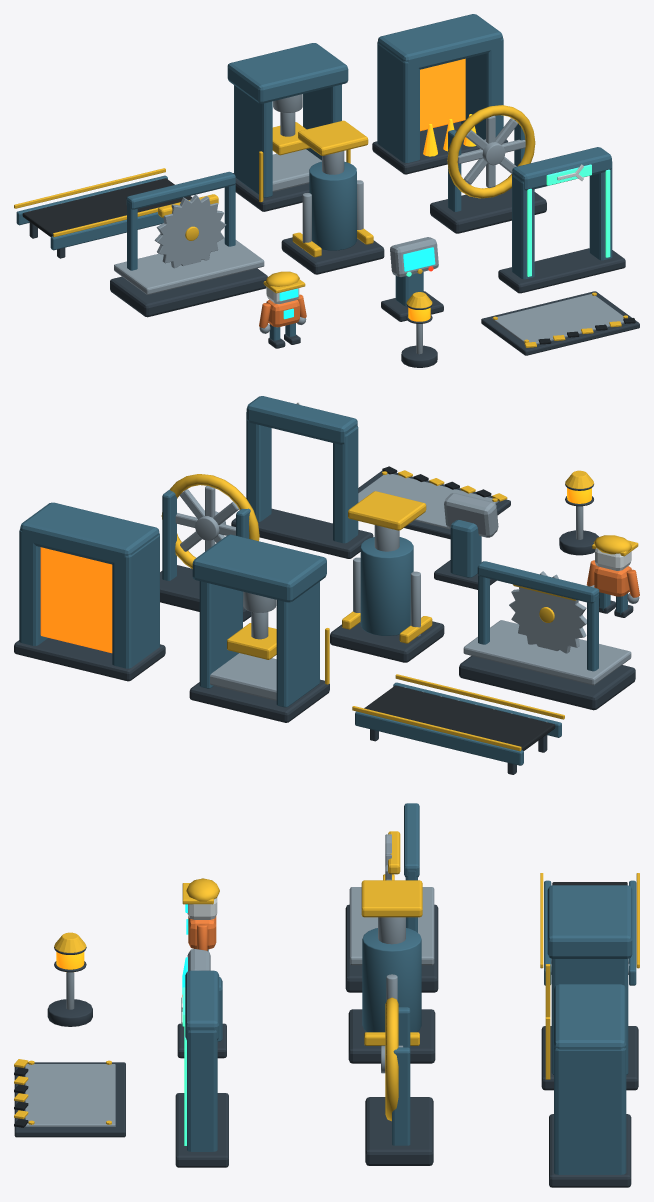
File: conveyor_factory_kit.glb
3 views of the same model, one above another, from view 1: azimuth 30°, elevation 25°; view 2: azimuth 150°, elevation 25°; view 3: azimuth 270°, elevation 25° (orthographic). The views are drawn at different scales.
Visible parts, largest first — view 1: Press_Crown, Furnace_Jamb_Left, Furnace_Header, Saw_Table, Piston_Main_Barrel, Floor_Plate_Inset, Saw_Base, Saw_Blade, Press_Pillar_L, Conveyor_Belt, Furnace_Heat_Core, Exit_Base (+28 smaller); view 2: Furnace_Heat_Core, Press_Crown, Furnace_Jamb_Left, Furnace_Header, Conveyor_Belt, Piston_Main_Barrel, Saw_Table, Press_Pillar_L, Saw_Base, Saw_Blade, Press_Pillar_R, Exit_Header (+32 smaller); view 3: Furnace_Jamb_Right, Press_Crown, Floor_Plate_Inset, Piston_Main_Barrel, Furnace_Header, Exit_Pillar_Right, Turbine_Base, Press_Pillar_R, Saw_Table, Piston_Strike_Plate, Floor_Plate_Base, Piston_Base (+13 smaller).
Boxes of the visible parts, bbox=[...] form: Press_Crown: bbox=[227, 43, 348, 103]; Furnace_Jamb_Left: bbox=[377, 41, 419, 162]; Furnace_Header: bbox=[378, 14, 502, 69]; Saw_Table: bbox=[114, 237, 264, 294]; Piston_Main_Barrel: bbox=[309, 161, 356, 250]; Floor_Plate_Inset: bbox=[492, 294, 624, 344]; Saw_Base: bbox=[110, 268, 267, 317]; Saw_Blade: bbox=[154, 194, 226, 268]; Press_Pillar_L: bbox=[234, 85, 272, 197]; Conveyor_Belt: bbox=[22, 178, 192, 236]; Furnace_Heat_Core: bbox=[420, 58, 465, 131]; Exit_Base: bbox=[498, 248, 625, 293]; Furnace_Heat_Core: bbox=[40, 547, 112, 653]; Press_Crown: bbox=[192, 534, 326, 602]; Furnace_Jamb_Left: bbox=[112, 533, 159, 668]; Furnace_Header: bbox=[20, 502, 159, 564]; Conveyor_Belt: bbox=[364, 685, 555, 750]; Piston_Main_Barrel: bbox=[360, 537, 413, 635]; Saw_Table: bbox=[463, 620, 631, 685]; Press_Pillar_L: bbox=[276, 581, 319, 707]; Saw_Base: bbox=[459, 656, 635, 710]; Saw_Blade: bbox=[509, 571, 586, 653]; Press_Pillar_R: bbox=[199, 581, 242, 688]; Exit_Header: bbox=[246, 396, 357, 444]; Furnace_Jamb_Right: bbox=[554, 1048, 626, 1174]; Press_Crown: bbox=[547, 885, 632, 958]; Floor_Plate_Inset: bbox=[25, 1064, 115, 1126]; Piston_Main_Barrel: bbox=[362, 928, 421, 1032]; Furnace_Header: bbox=[554, 984, 626, 1049]; Exit_Pillar_Right: bbox=[187, 1030, 217, 1151]; Turbine_Base: bbox=[365, 1097, 433, 1165]; Press_Pillar_R: bbox=[551, 959, 628, 1074]; Saw_Table: bbox=[349, 887, 434, 965]; Piston_Strike_Plate: bbox=[361, 880, 422, 917]; Floor_Plate_Base: bbox=[14, 1062, 125, 1137]; Piston_Base: bbox=[348, 1009, 435, 1063].
Size of the model in its own units: 15.95 by 4.14 by 15.18.
